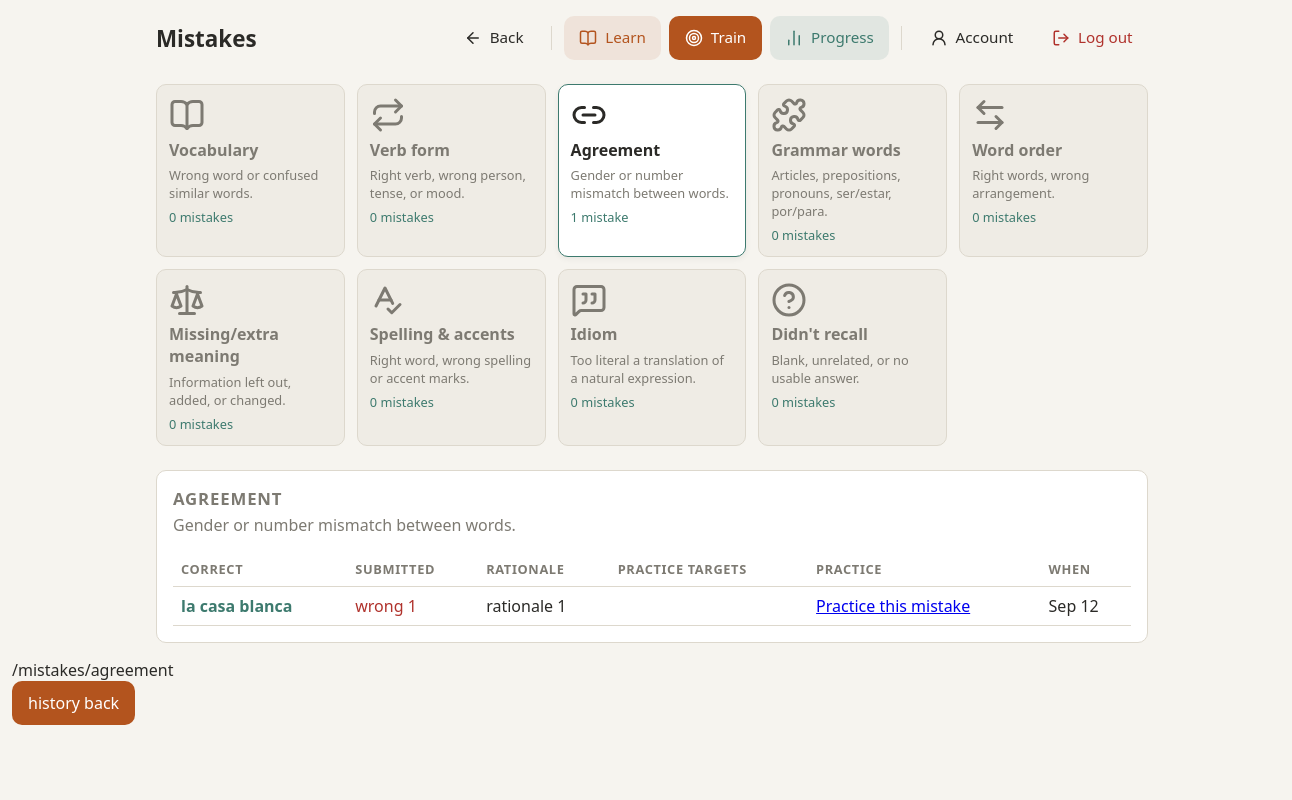
Scenario: MistakesPage › clicking the open category again closes it and returns to /mistakes
The width and height of the screenshot is (1292, 800).
Expected: the text "la casa blanca" is shown, 173,586 -> 347,625
Step 1. Click the button "Agreement Gender or number mismatch between words. 1 mistake" → click(652, 161), box 571,97 -> 733,226
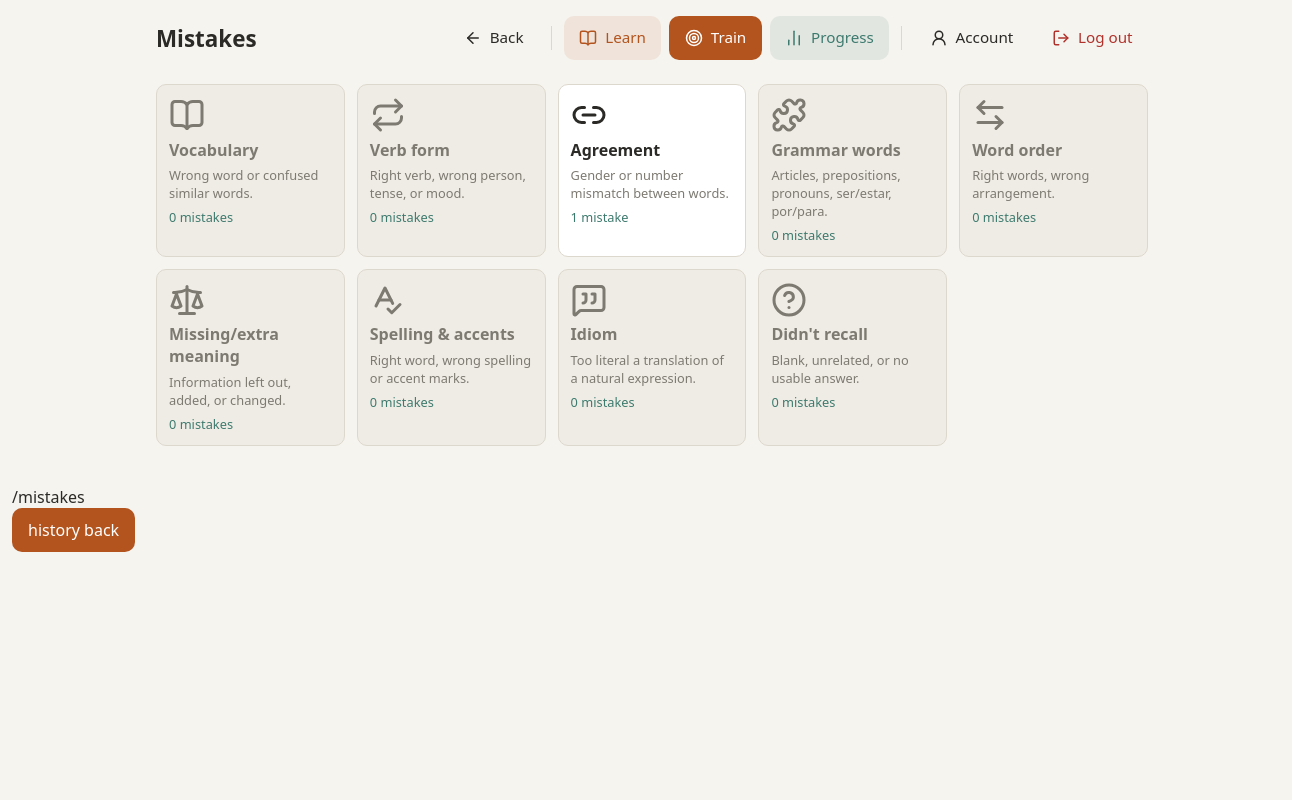
Result: the text with test id "location" reads "/mistakes" at 12,486 -> 85,508
Result: the text "la casa blanca" is gone
